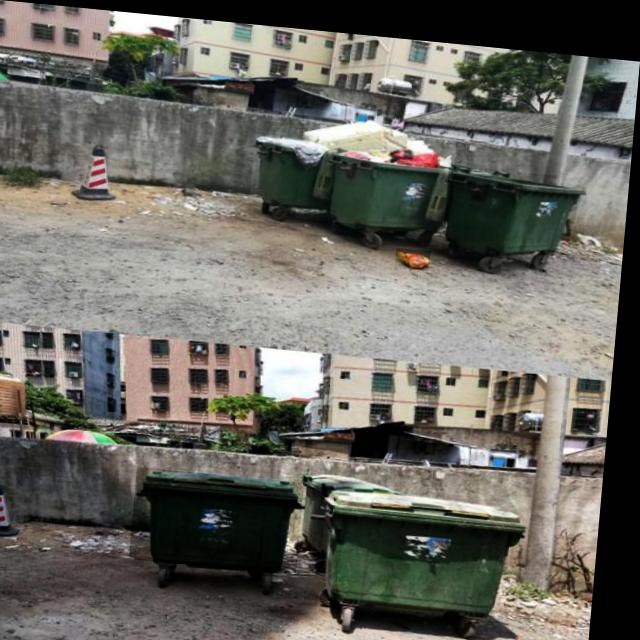garbage: (399, 240, 435, 262)
garbage_bin: (315, 479, 534, 608), (139, 463, 313, 568), (445, 156, 591, 251)
overflow: (299, 109, 459, 223), (253, 128, 335, 202)
